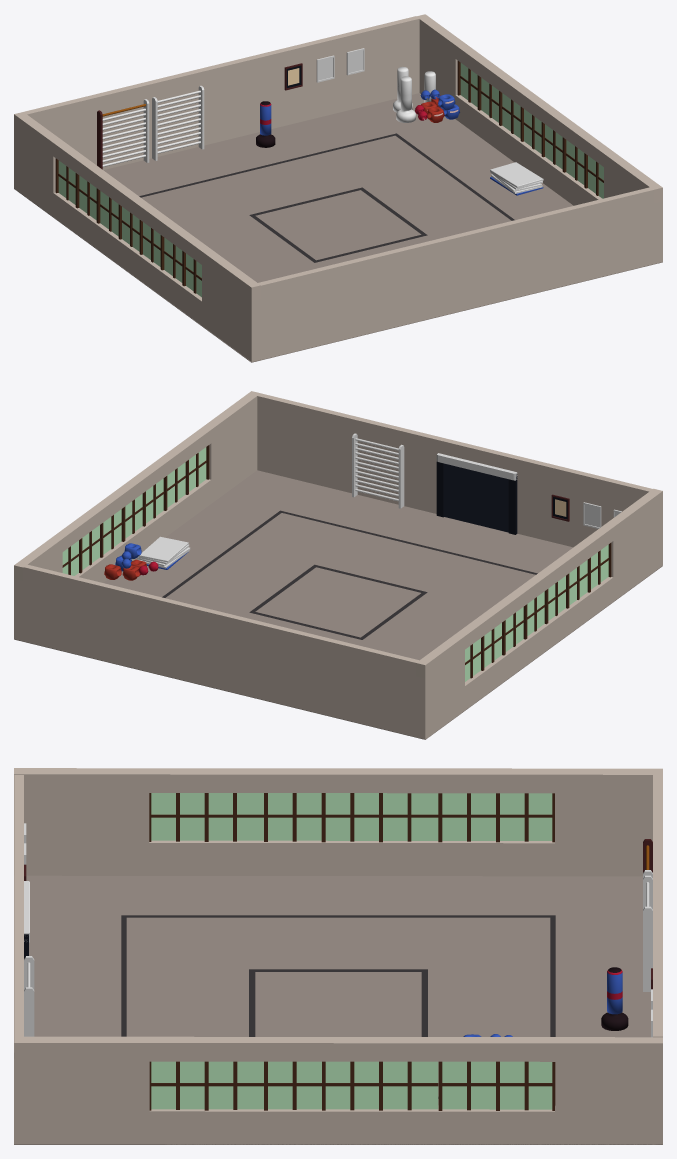
File: decor-FBX.fbx
3 renders of one model, top to bottom at view 1: azimuth 30°, elevation 25°; view 2: azimuth 150°, elevation 25°; view 3: azimuth 270°, elevation 25°, orthographic. The views are drawn at different scales.
Visible parts, largest first — view 1: Cube, Cube.062, Cube.063, Cube.020, Cube.001, Cube.074, Cylinder.024, Cylinder.027, Cube.011, Cube.025, Cube.042, Cube.054 (+1 smaller); view 2: Cube, Cube.063, Cube.062, Cube.020, Cube.001, Cube.076, Cube.074, Cube.075, Cube.054, Cube.011, Cube.025, Cube.042; view 3: Cube, Cube.001, Cube.020, Cube.063, Cube.062, Cube.042, Cube.011, Cube.025, Cube.054, Cube.050, Cube.021, Cube.046 (+9 smaller).
Boxes of the visible parts, bbox=[...] form: Cube: bbox=[14, 93, 662, 362]; Cube.062: bbox=[258, 187, 653, 359]; Cube.063: bbox=[24, 16, 419, 169]; Cube.020: bbox=[14, 112, 260, 361]; Cube.001: bbox=[417, 14, 662, 263]; Cube.074: bbox=[490, 162, 543, 187]; Cylinder.024: bbox=[256, 101, 275, 147]; Cylinder.027: bbox=[396, 76, 415, 122]; Cube.011: bbox=[502, 93, 520, 138]; Cube.025: bbox=[566, 140, 584, 184]; Cube.042: bbox=[100, 191, 118, 236]; Cube.054: bbox=[164, 238, 182, 282]; Cube: bbox=[14, 470, 662, 739]; Cube.063: bbox=[23, 564, 418, 736]; Cube.062: bbox=[257, 393, 652, 547]; Cube.020: bbox=[416, 488, 662, 739]; Cube.001: bbox=[14, 391, 260, 641]; Cube.076: bbox=[436, 453, 517, 480]; Cube.074: bbox=[139, 536, 188, 562]; Cube.075: bbox=[508, 474, 517, 534]; Cube.054: bbox=[569, 560, 587, 605]; Cube.011: bbox=[103, 509, 121, 554]; Cube.025: bbox=[167, 462, 185, 507]; Cube.042: bbox=[505, 607, 523, 651]; Cube: bbox=[14, 875, 662, 1144]; Cube.001: bbox=[14, 1036, 662, 1144]; Cube.020: bbox=[14, 768, 662, 876]; Cube.063: bbox=[653, 775, 662, 1037]; Cube.062: bbox=[14, 775, 23, 1036]; Cube.042: bbox=[383, 793, 438, 840]; Cube.011: bbox=[383, 1061, 438, 1109]; Cube.025: bbox=[208, 1061, 263, 1109]; Cube.054: bbox=[208, 793, 263, 840]; Cube.050: bbox=[268, 793, 321, 840]; Cube.021: bbox=[268, 1061, 321, 1109]; Cube.046: bbox=[325, 793, 378, 840].
Bounding box in the file's own units: 1959 × 541 × 1960.
